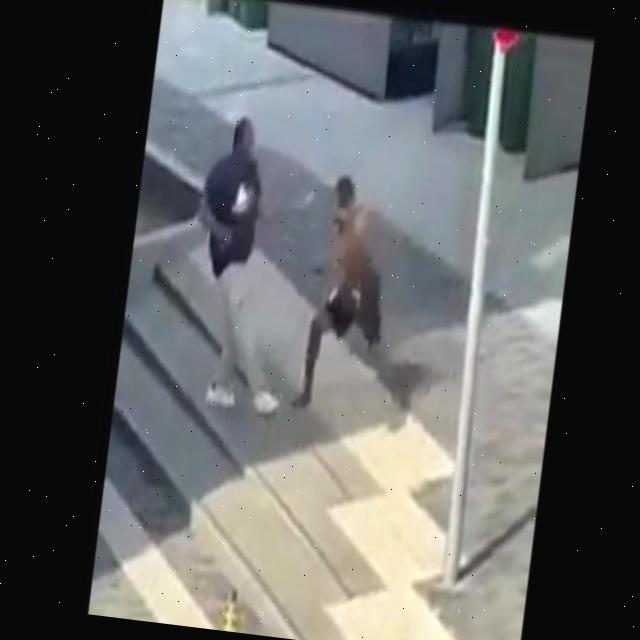suspicion: (369, 204, 383, 212)
